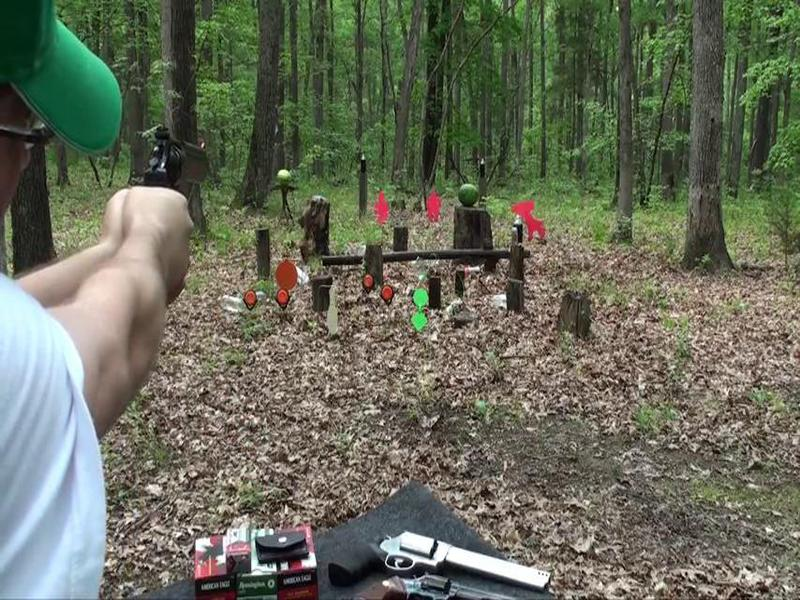Revolver: (132, 120, 222, 211)
